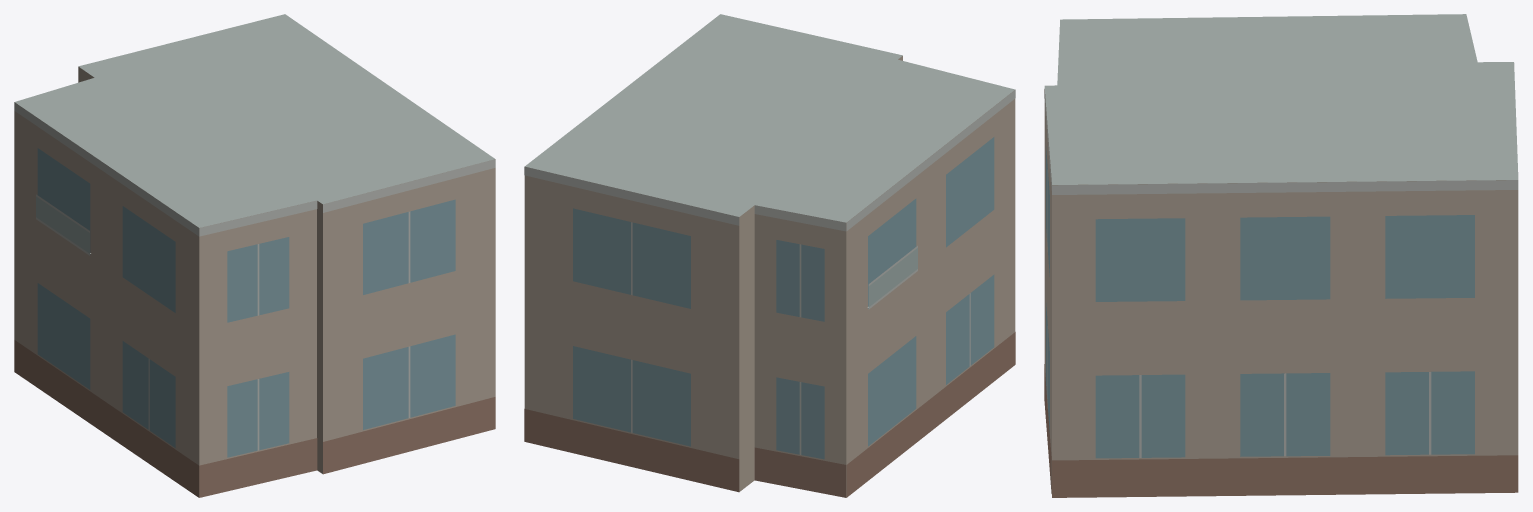
File: survey-upis-32568938.glb
3 views of the same model, side by side, from view 1: azimuth 30°, elevation 25°; view 2: azimuth 150°, elevation 25°; view 3: azimuth 270°, elevation 25° (orthographic). The views are drawn at different scales.
Parts seen in each view (by area): view 1: survey-upis-32568938.tmp; view 2: survey-upis-32568938.tmp; view 3: survey-upis-32568938.tmp.
Part boxes in pixels (x1,y1,x2,y2): survey-upis-32568938.tmp: (14, 14, 495, 497); survey-upis-32568938.tmp: (524, 14, 1015, 497); survey-upis-32568938.tmp: (1044, 14, 1518, 497).
Bounding box in the file's own units: 8.92 × 7.6 × 10.45.
